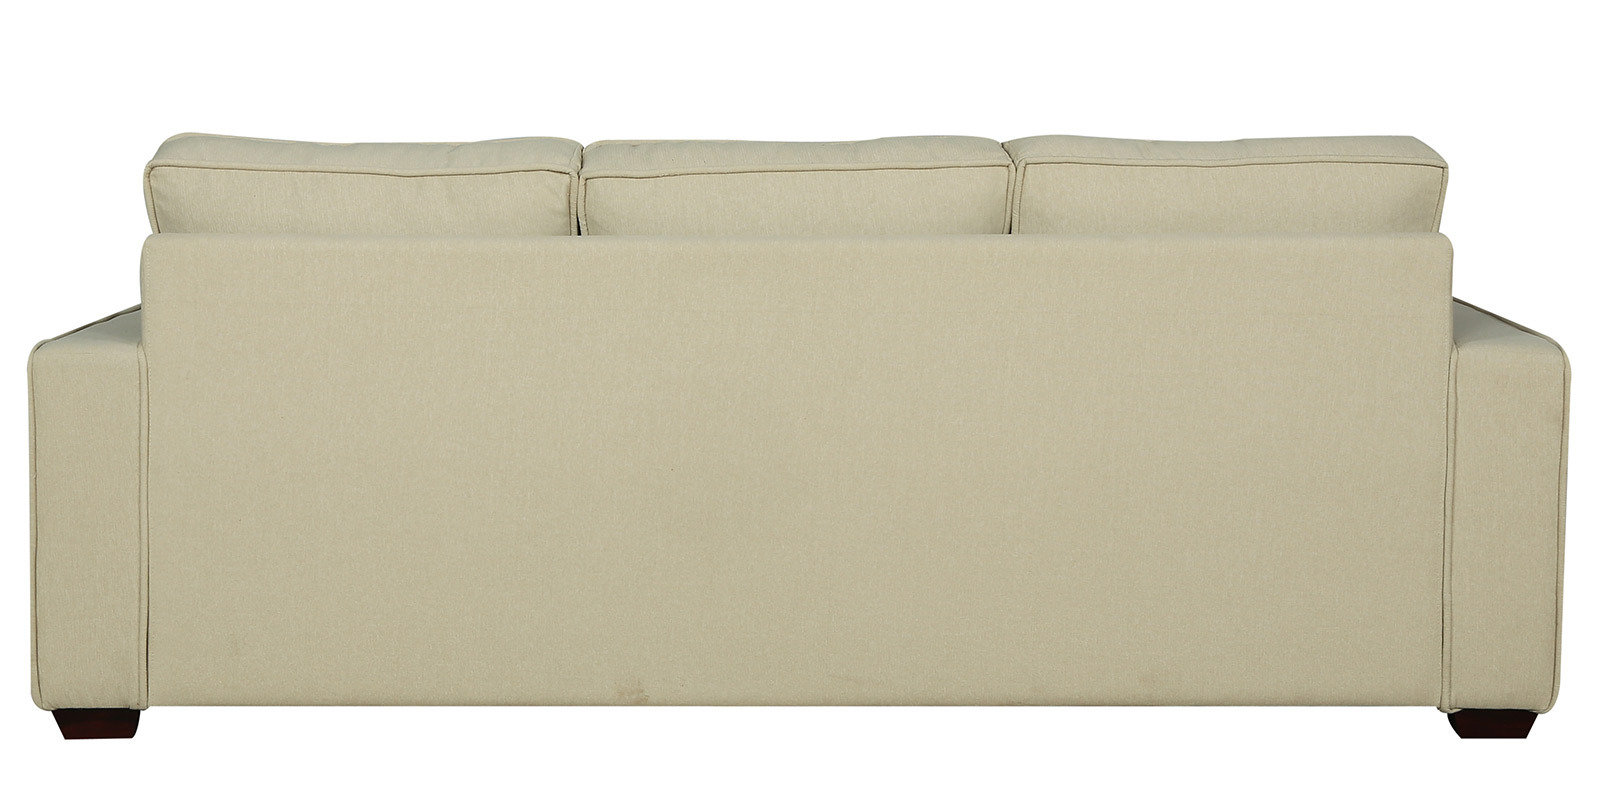Hugo Three Seater Sofa in Beige Colour by CasaCraft: (13, 116, 1599, 778)
